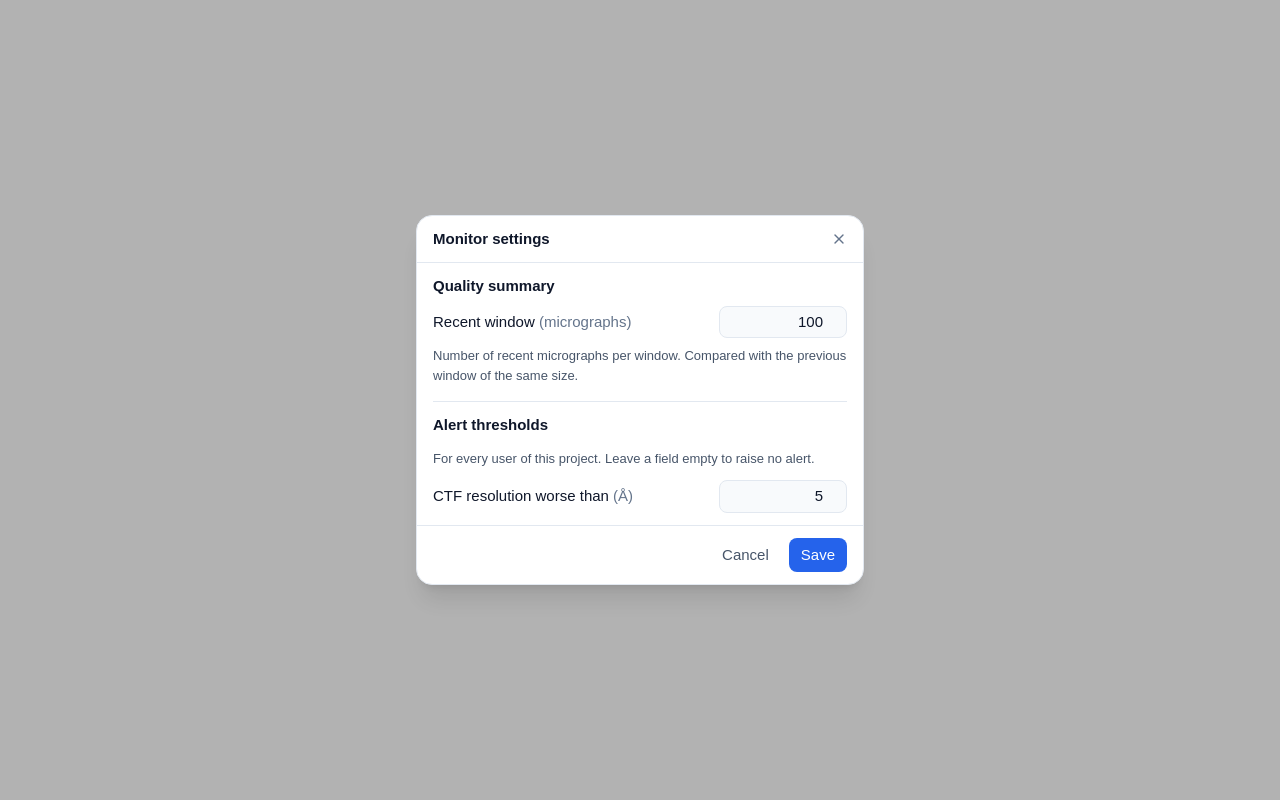
Test case: Summary window in the thresholds dialog › rejects invalid window  before saving any project settings
The width and height of the screenshot is (1280, 800).
Clear the number field named "Quality summary window". click: [783, 322]
box: top-left (719, 306), bottom-right (847, 338)
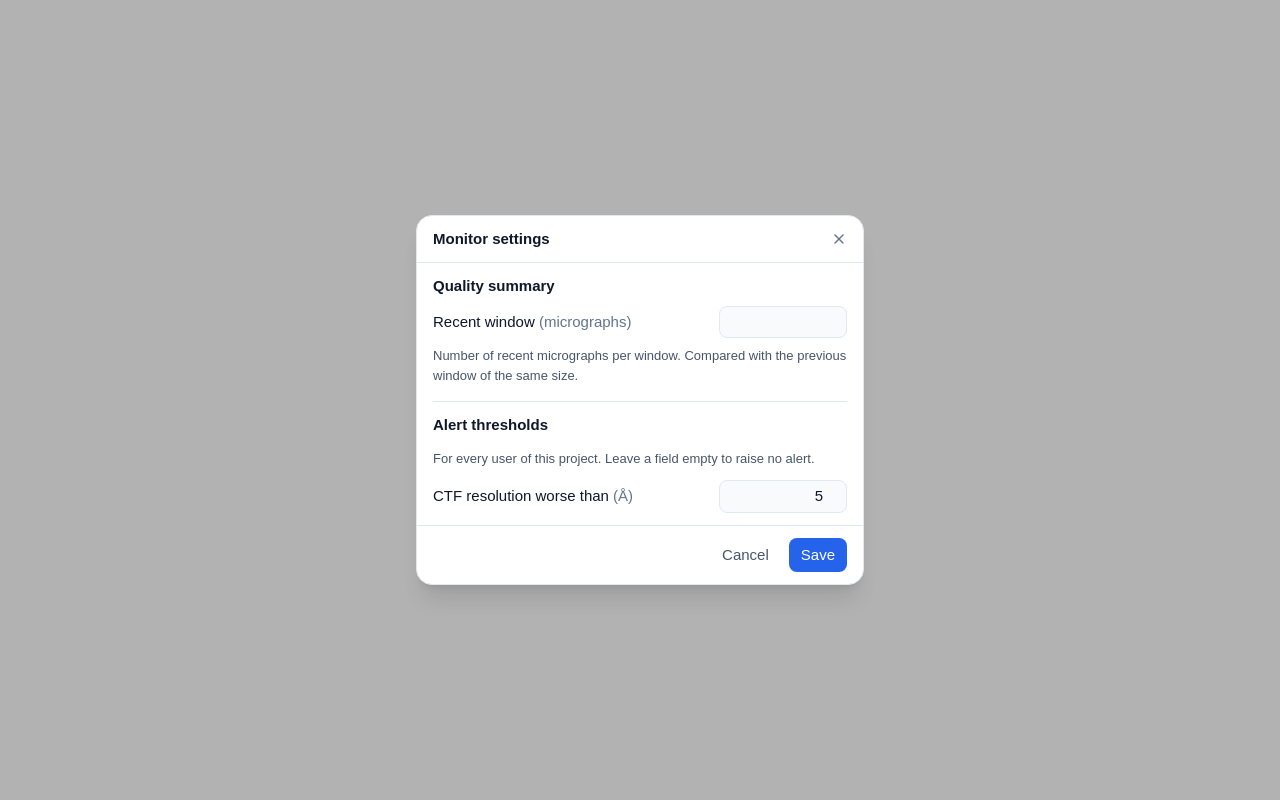
Click the button "Save". click: [818, 555]
box: top-left (789, 538), bottom-right (847, 572)
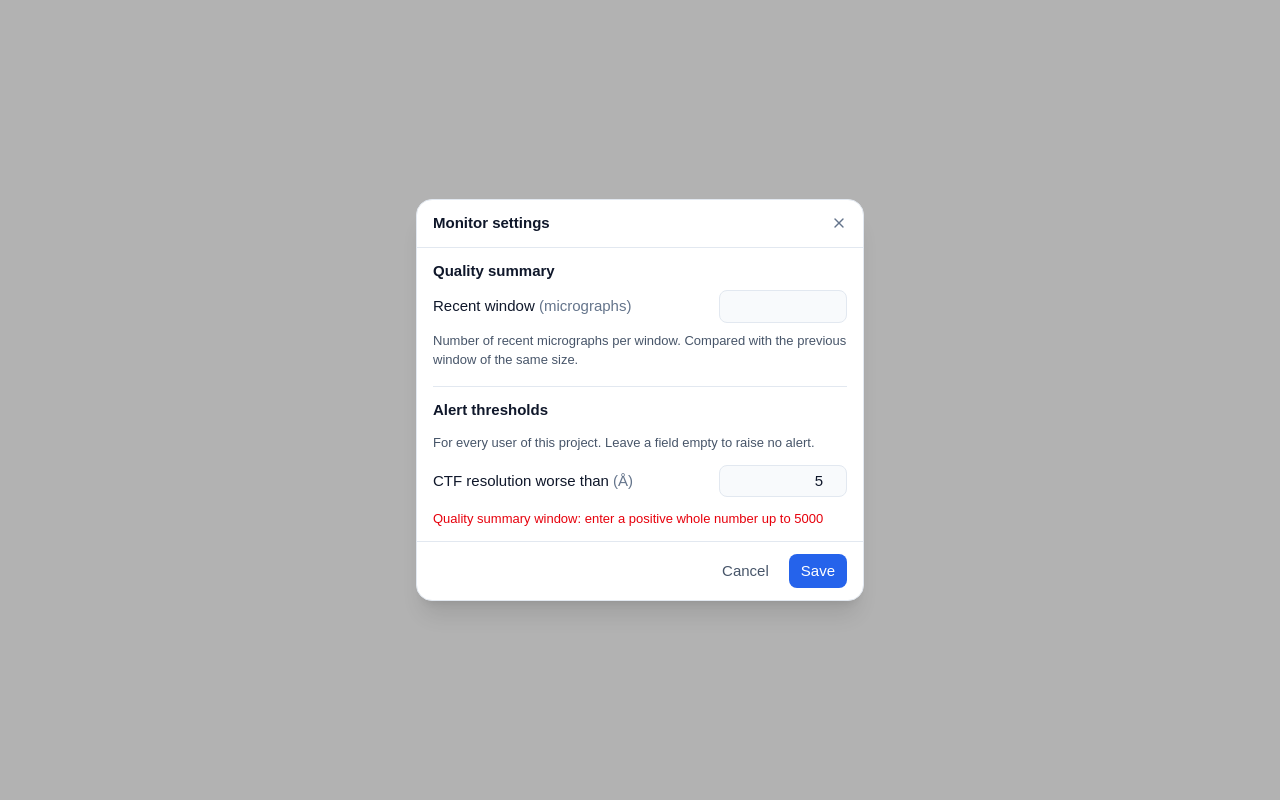
Result: the message shows "positive whole number" at top-left (433, 511), bottom-right (823, 526)
